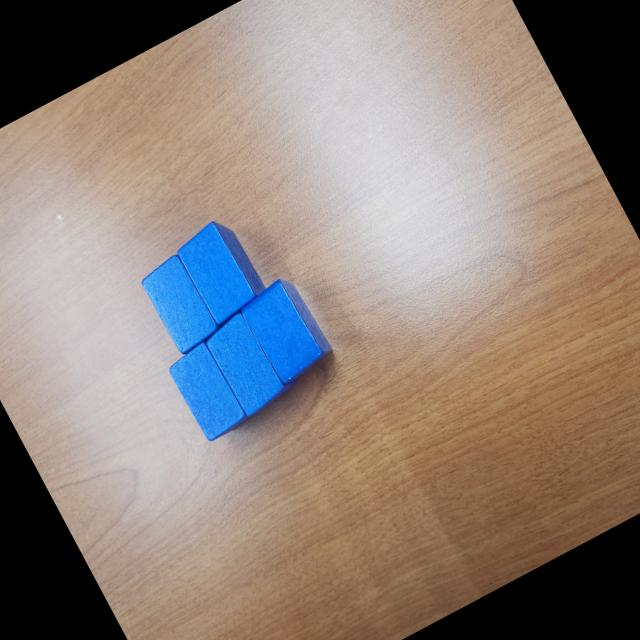blue: (199, 302, 301, 418), (236, 272, 336, 387), (171, 214, 271, 326), (163, 336, 253, 443), (136, 252, 224, 356)
